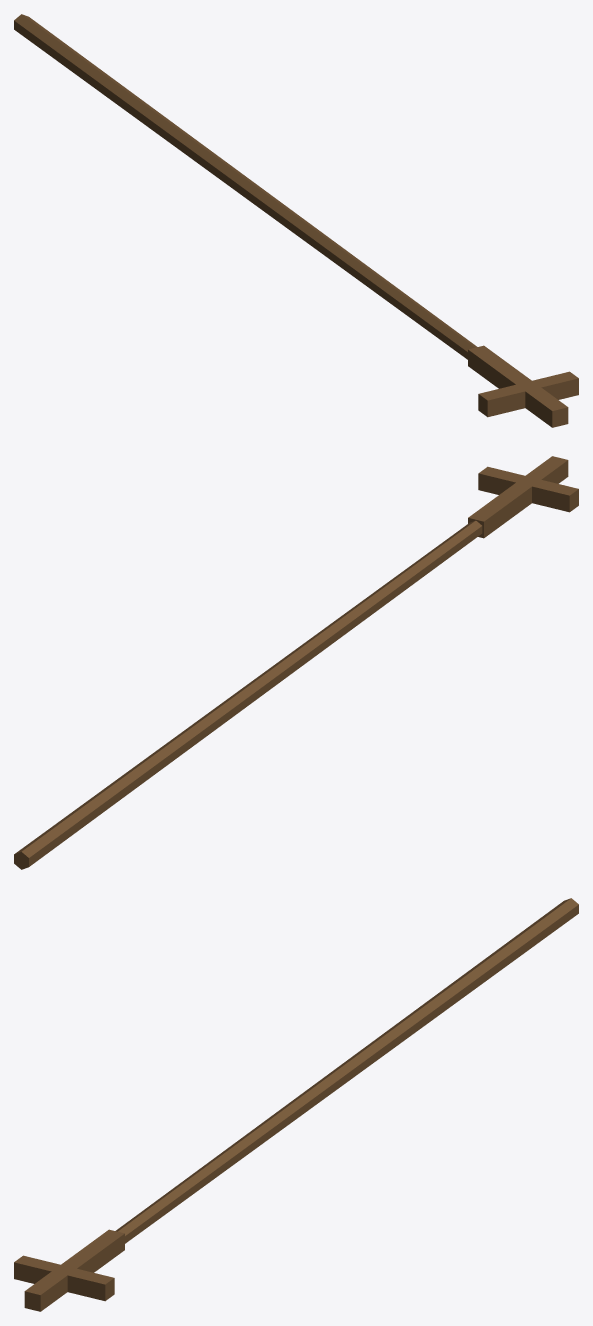
Rendered from f6_korsstav.glb.
The picture shows the model from 3 angles, top to bottom: view 1: azimuth 30°, elevation 25°; view 2: azimuth 150°, elevation 25°; view 3: azimuth 330°, elevation 25°; orthographic projection.
Visible parts, largest first — view 1: F_korsstav; view 2: F_korsstav; view 3: F_korsstav.
Part boxes in pixels (left/top/right/bottom): F_korsstav: left=14, top=14, right=578, bottom=427; F_korsstav: left=14, top=456, right=578, bottom=869; F_korsstav: left=14, top=898, right=578, bottom=1311.
Size of the model in its own units: 0.2 by 0.038 by 2.04.
